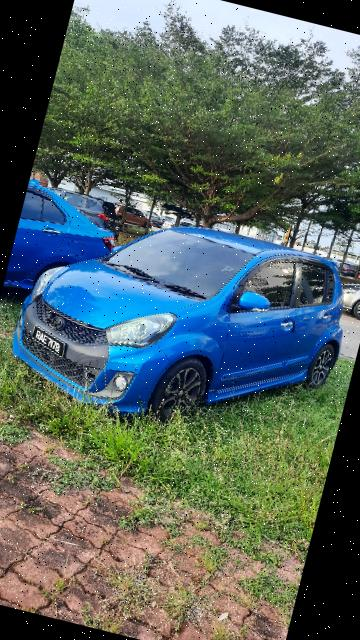License_Plate: (28, 328, 74, 365)
car: (4, 183, 360, 466), (1, 179, 141, 339)
